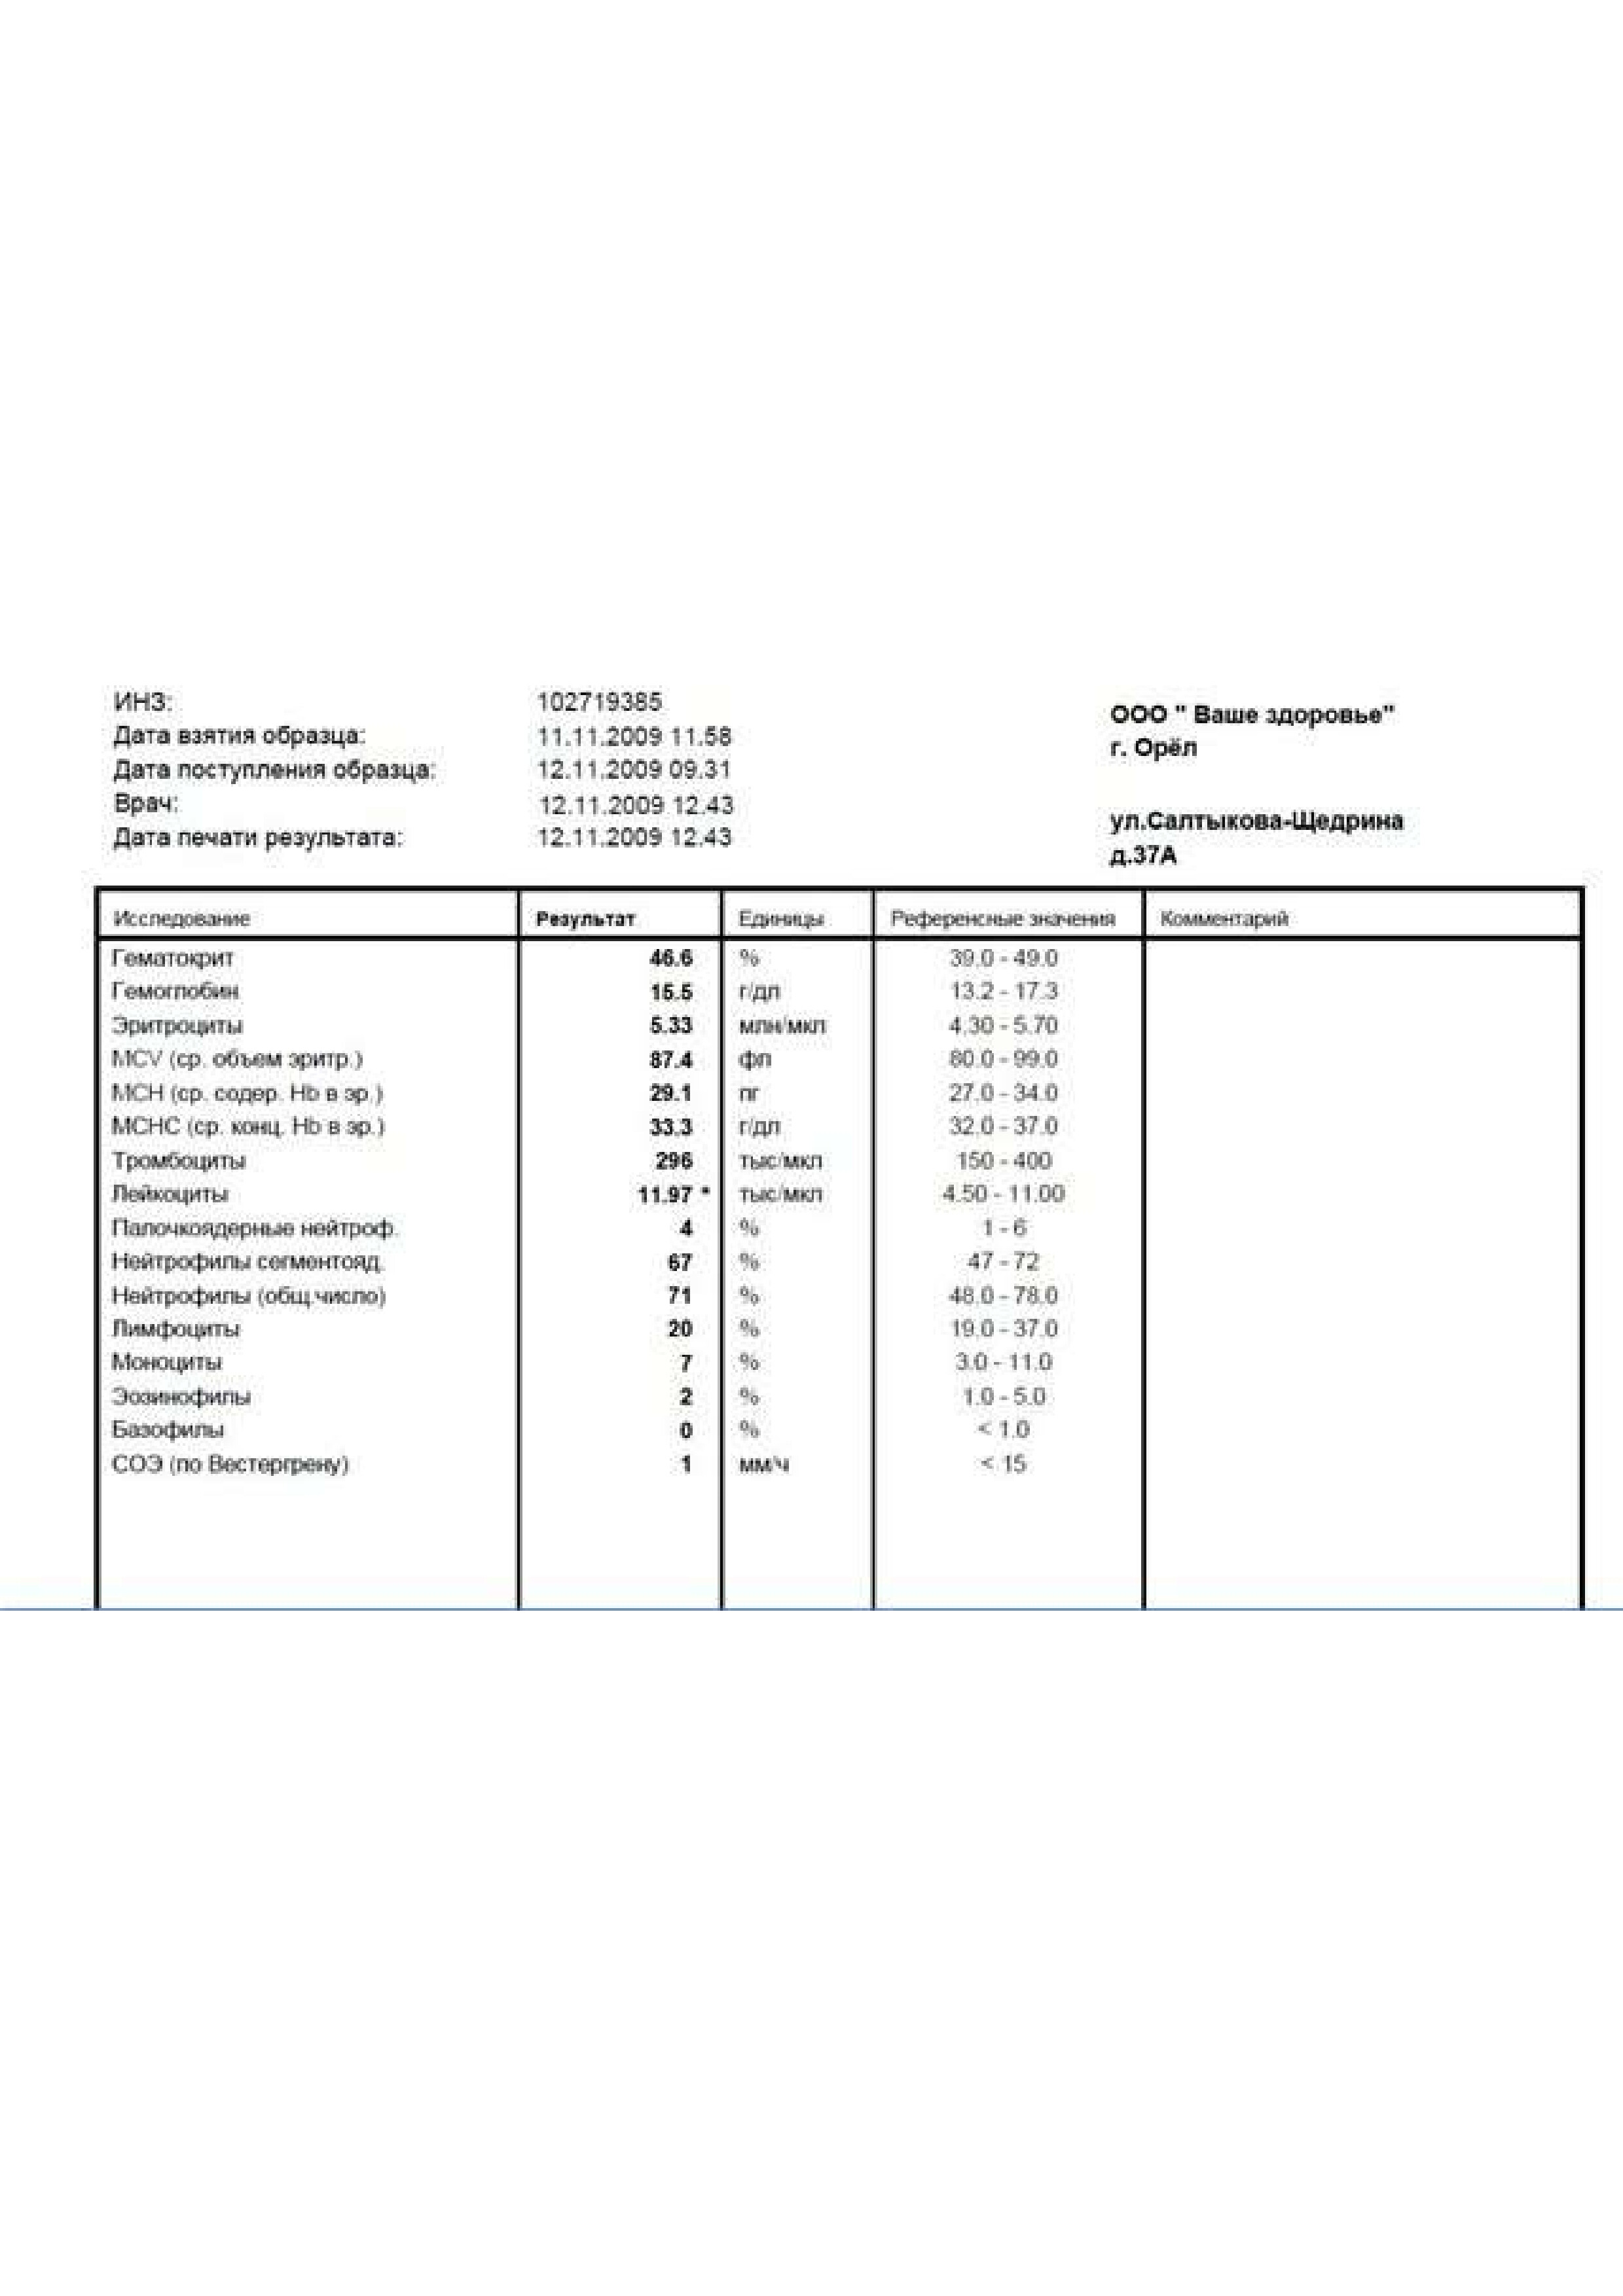column: (109, 888, 397, 1610), (891, 888, 1117, 1610), (536, 888, 694, 1610), (1159, 888, 1289, 1610), (738, 888, 829, 1610)
